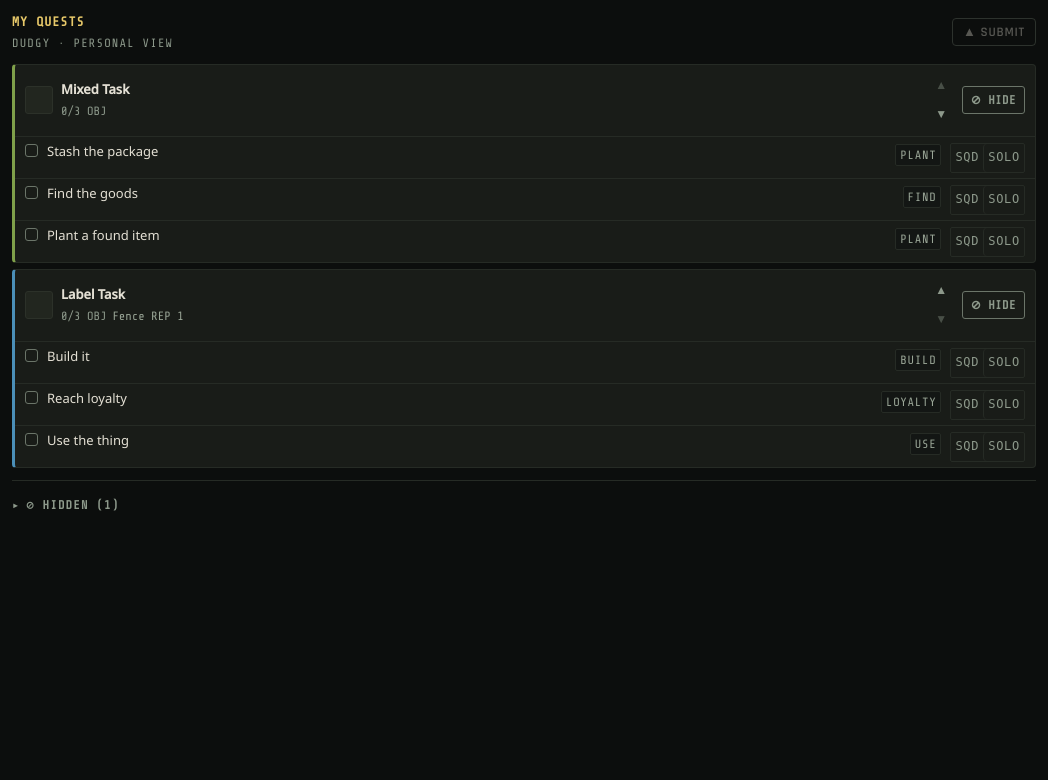
Test: hiding a quest › puts an unhidden quest back in the list
Expected: the text "MY QUESTS" is shown, x1=12 y1=14 x2=84 y2=29
Expected: the text "Shared Task" is not shown
Click the button "▸ ⊘ HIDDEN (1)": (65, 504) x1=12 y1=490 x2=1036 y2=518
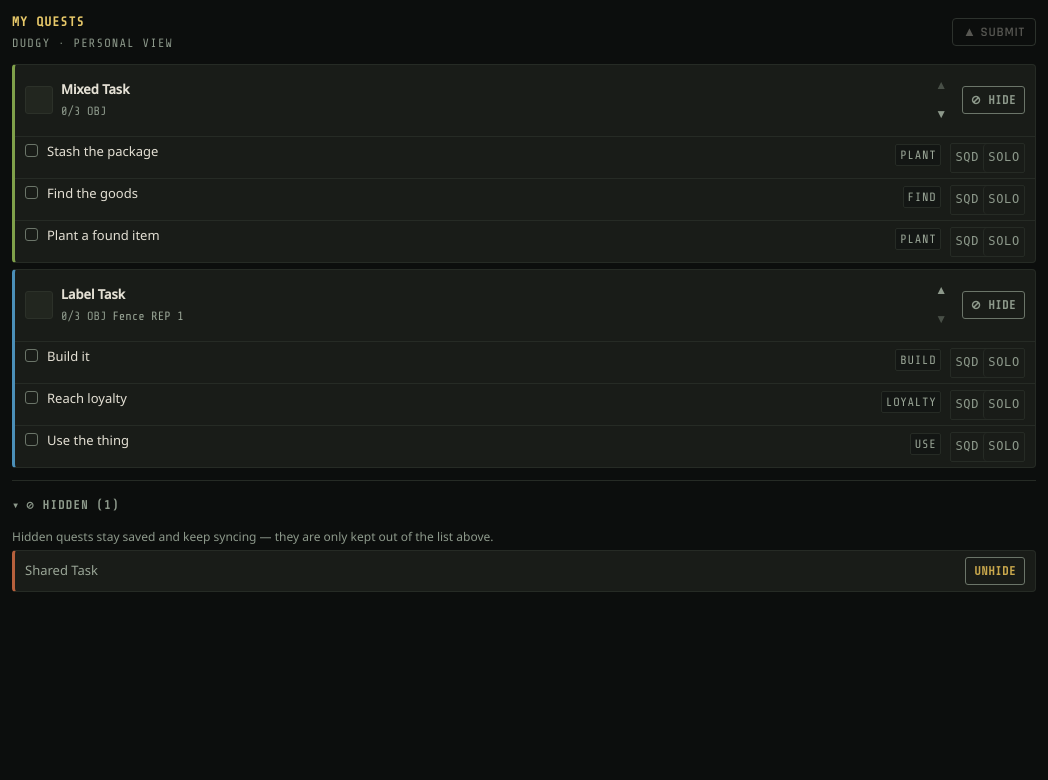
Click the button with aria-label "Unhide Shared Task": (995, 571) x1=965 y1=557 x2=1025 y2=585
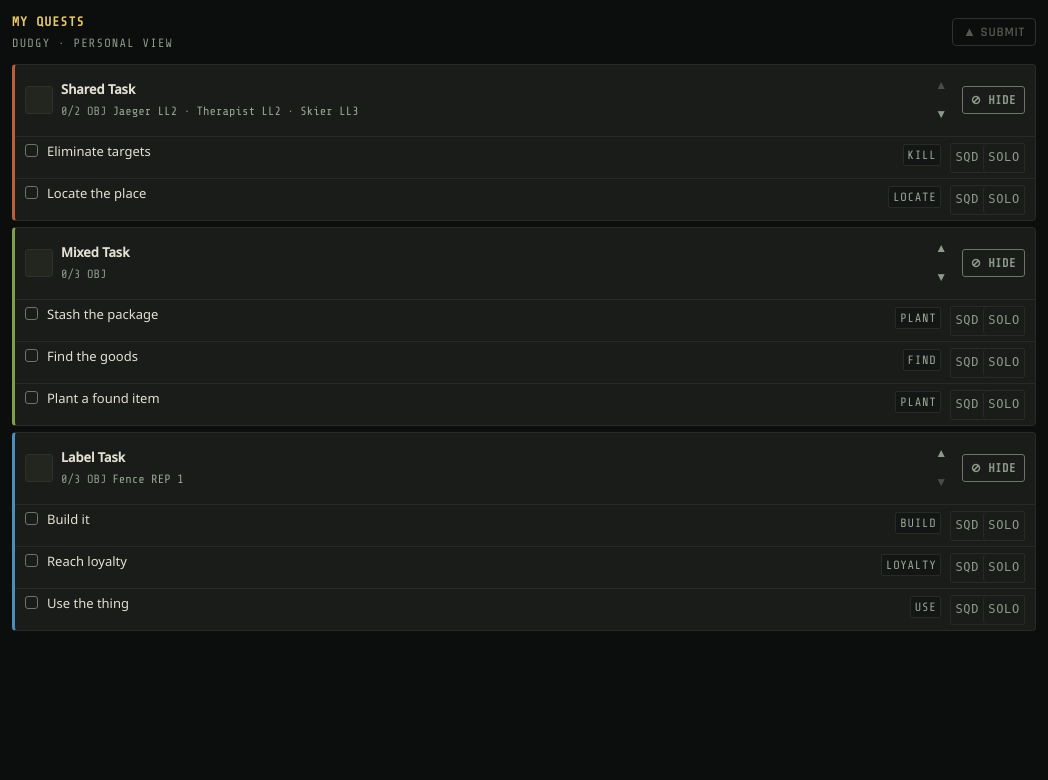
Now the text "Shared Task" is shown, box x1=61 y1=80 x2=135 y2=98
Now the button "HIDDEN" is gone
